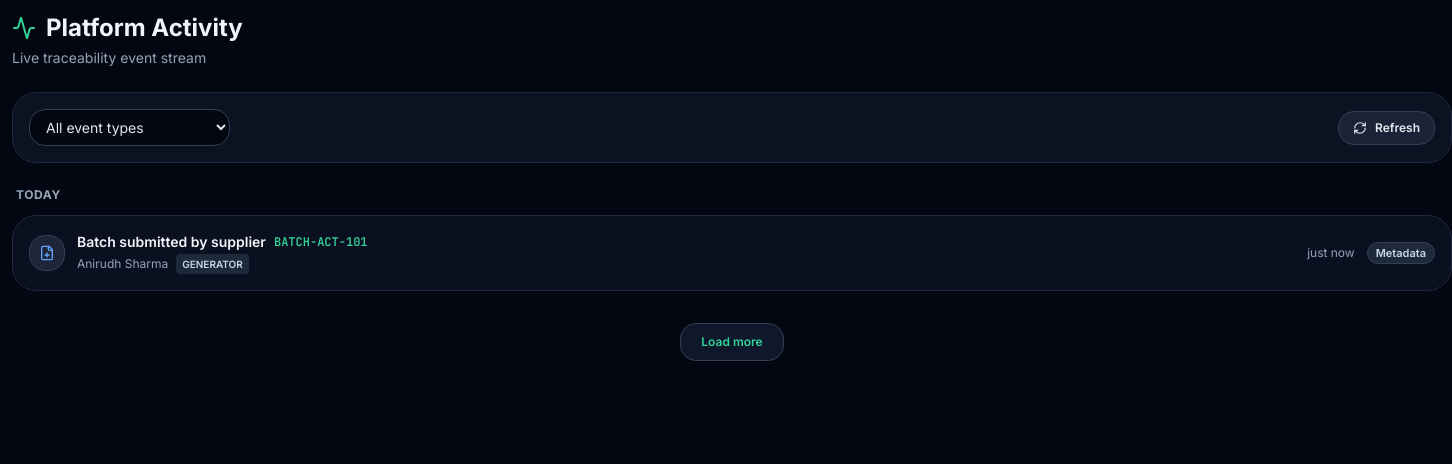
Scenario: AdminActivityPage › clicking Load more appends next page of events
This screenshot has width=1452, height=464.
Expected: the link "BATCH-ACT-101" is shown, [274,234,368,250]
Click the button "Load more" at (732, 342), box [680,323,784,361]
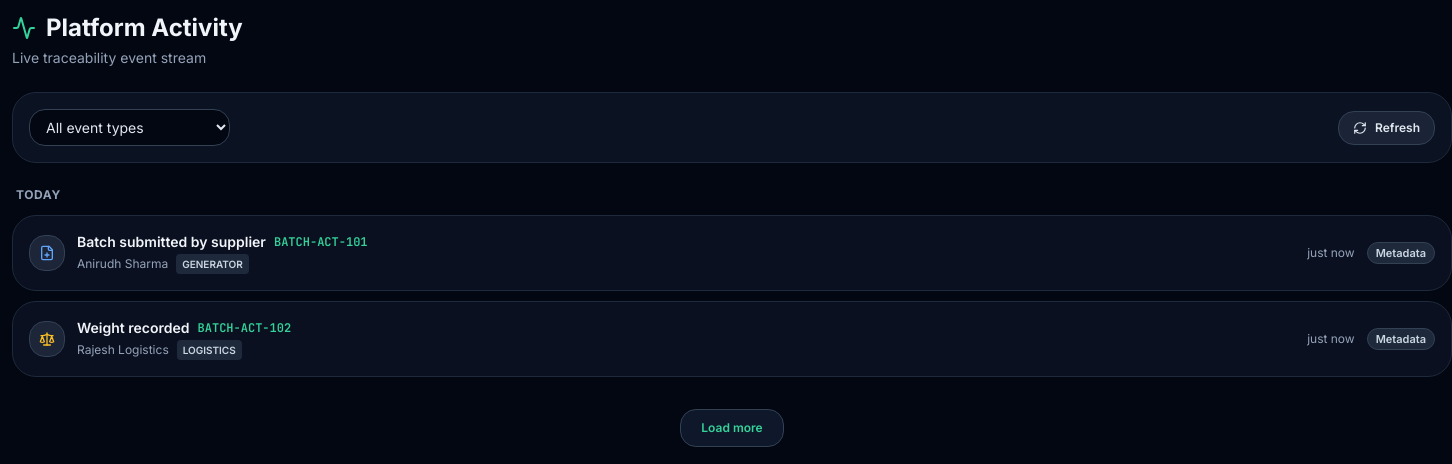
Expected: the link "BATCH-ACT-101" is shown, [274,234,368,250]
Expected: the link "BATCH-ACT-102" is shown, [198,320,291,336]
Expected: the text "Weight recorded" is shown, [77,318,190,338]
